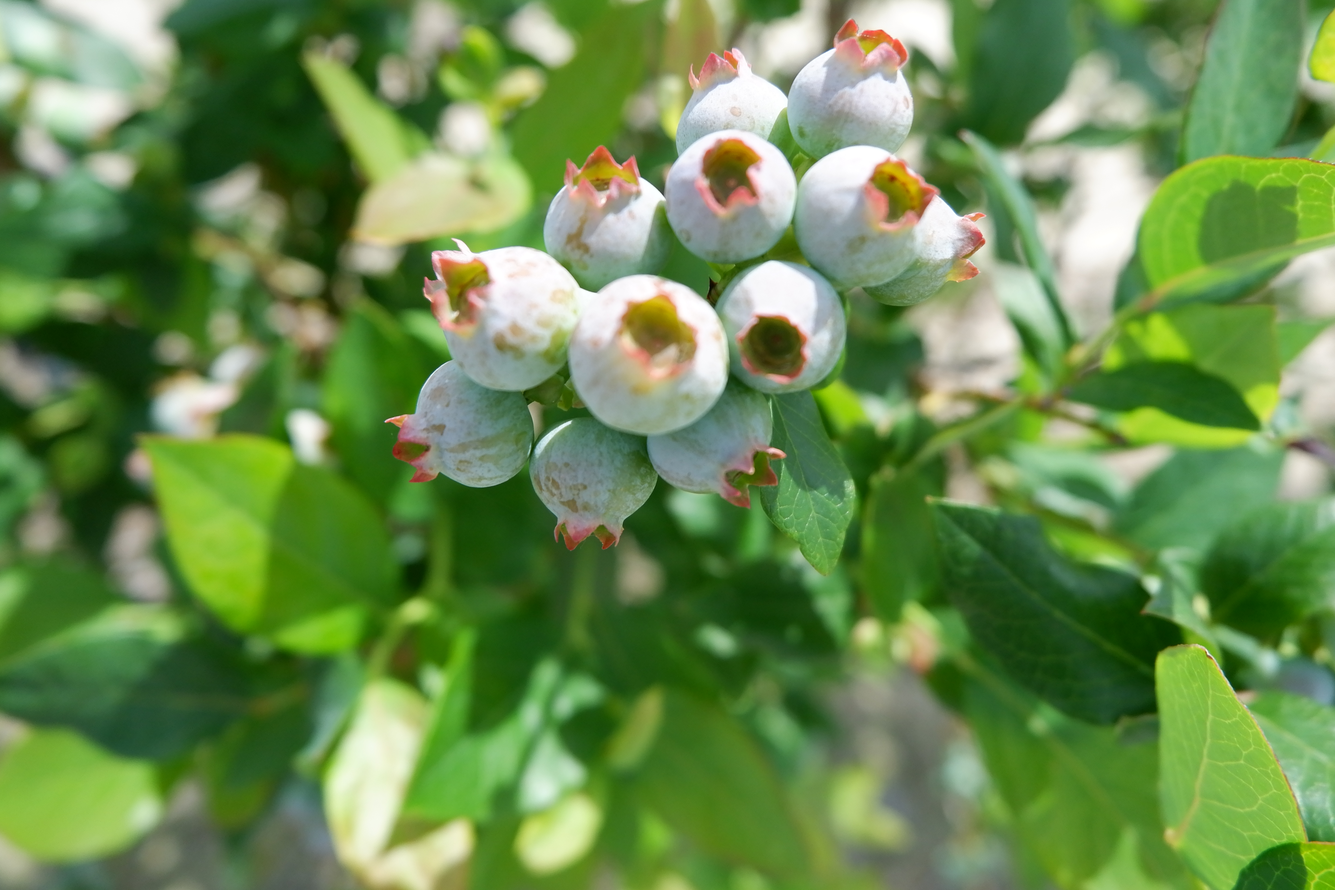Immature: (570, 278, 728, 430), (435, 250, 578, 387), (797, 147, 926, 285), (789, 16, 913, 154), (714, 261, 843, 392), (392, 364, 530, 485), (546, 151, 669, 286), (529, 416, 654, 545), (670, 133, 794, 260), (650, 377, 778, 498), (863, 194, 988, 306), (675, 46, 796, 158)
